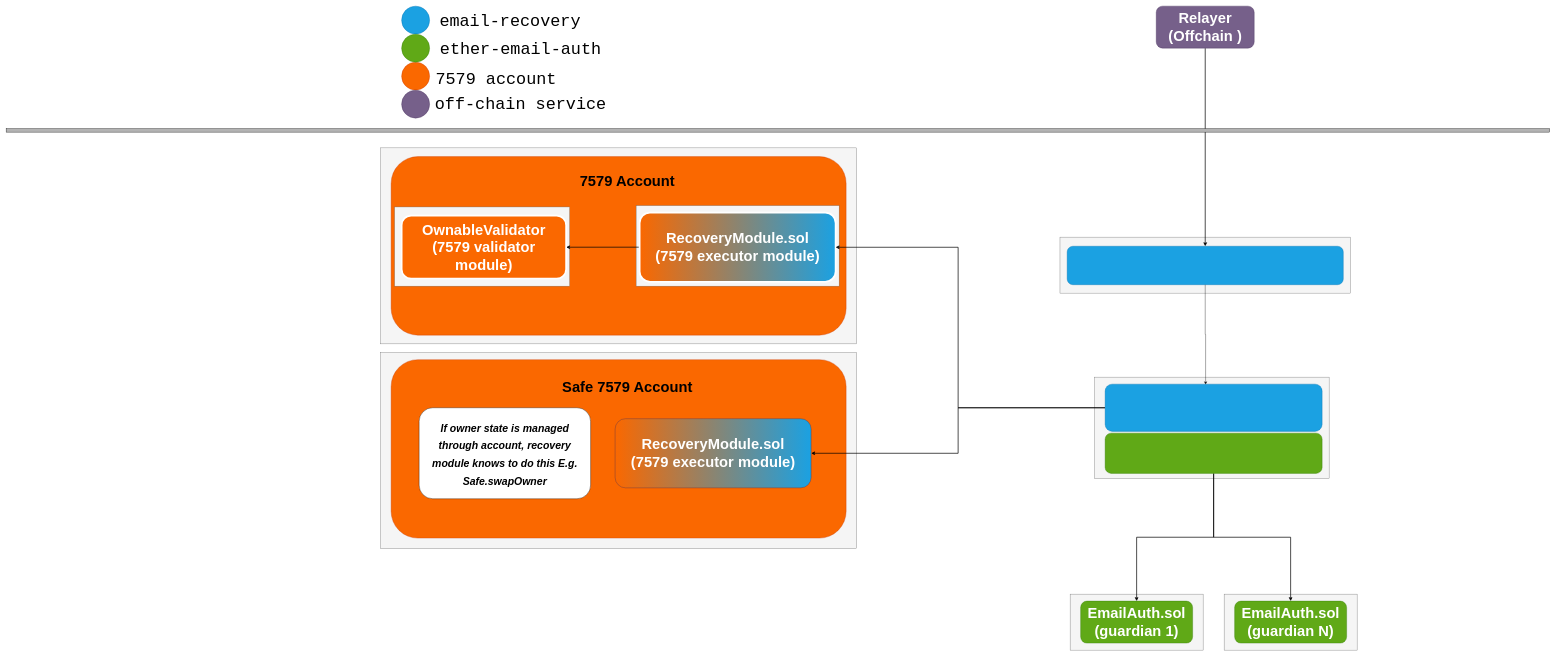
Some shapes in this 1556 by 656 pixel diagram are drawn without their labels. The shapes that lost their labels are listed below. From the top down, each one's centre as x and y in pixels, then its label:
At [1205,265]: "EmailAccountRecoveryRouter.sol".
At [1213,407]: "ZkEmailRecovery.sol".
At [1213,453]: "EmailAccountRecovery.sol (abstract contract)".
